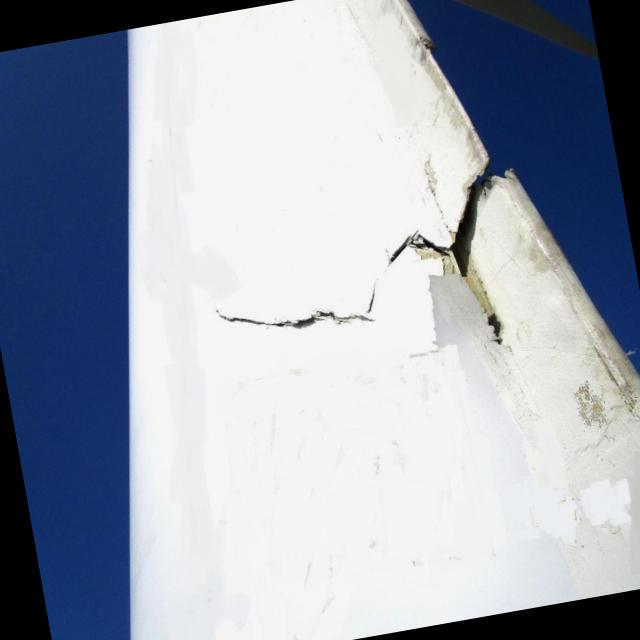crack: (390, 152, 548, 355), (204, 246, 406, 344)
